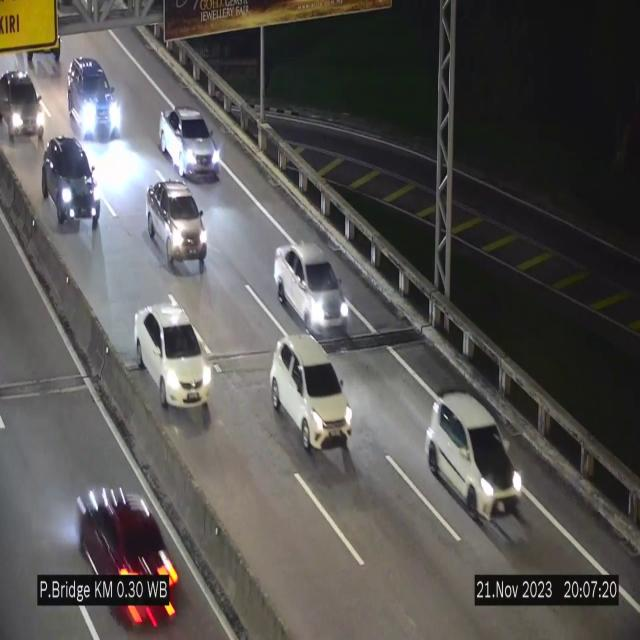Car: (79, 465, 183, 629), (432, 391, 528, 516), (271, 335, 353, 452), (134, 304, 210, 418), (33, 125, 101, 239), (274, 243, 349, 339), (147, 179, 207, 274), (159, 107, 221, 177), (68, 59, 120, 142), (0, 64, 46, 148)
